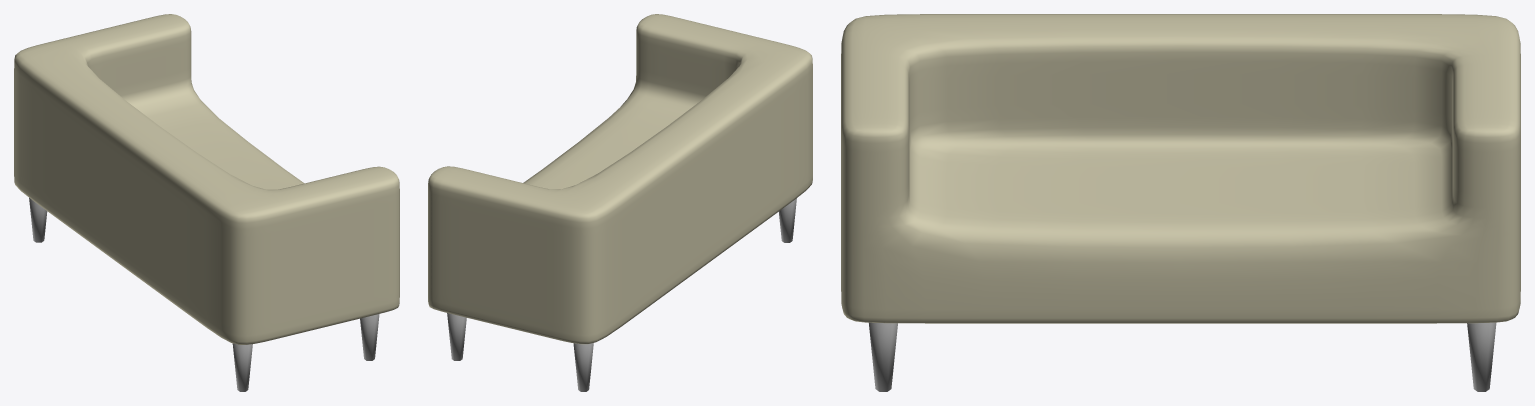
Rendered from sofa.fbx.
3 views of the same model, side by side, from view 1: azimuth 30°, elevation 25°; view 2: azimuth 150°, elevation 25°; view 3: azimuth 270°, elevation 25° (orthographic). The views are drawn at different scales.
Visible parts, largest first — view 1: sofa, sofr_leg; view 2: sofa, sofr_leg; view 3: sofa, sofr_leg.
Part boxes in pixels (box(x1,y1,x2,y2)): sofa: box(14, 14, 399, 344); sofr_leg: box(29, 198, 379, 391); sofa: box(428, 14, 812, 344); sofr_leg: box(447, 198, 796, 391); sofa: box(841, 14, 1520, 323); sofr_leg: box(869, 322, 1496, 391).
Bounding box in the file's own units: 71.56 × 74.23 × 167.
